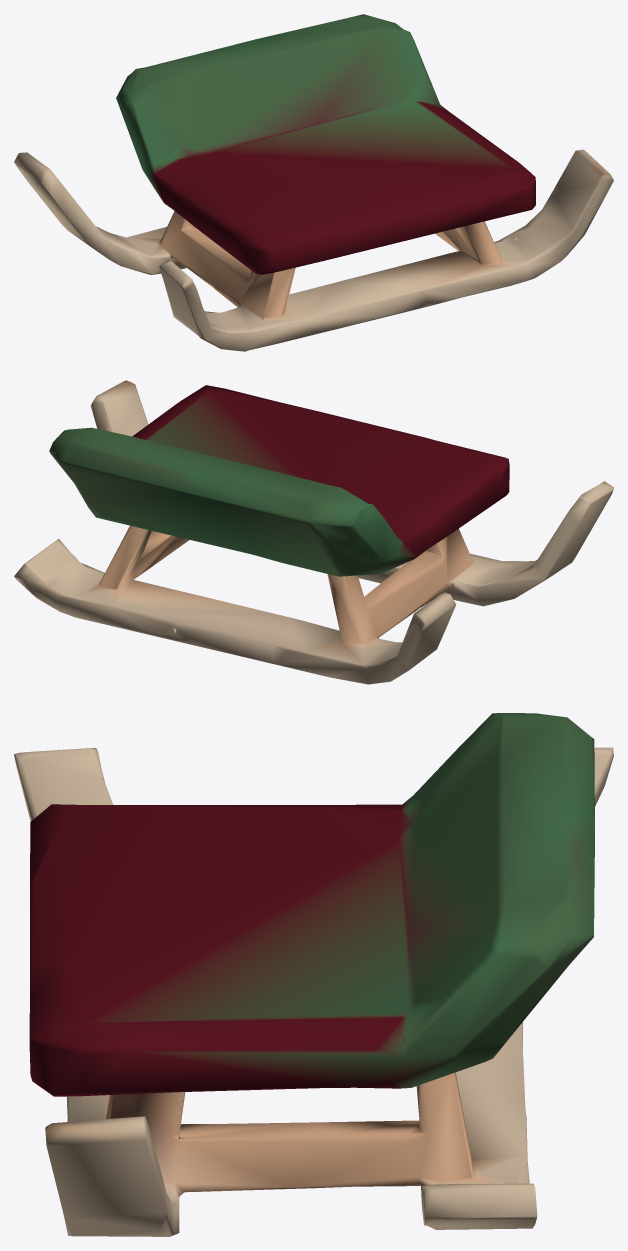
Rendered from gen3d-sleigh-lod1.glb.
3 renders of one model, top to bottom at view 1: azimuth 30°, elevation 25°; view 2: azimuth 150°, elevation 25°; view 3: azimuth 270°, elevation 25°, orthographic. The views are drawn at different scales.
Parts seen in each view (by area): view 1: part_0; view 2: part_0; view 3: part_0.
Boxes of the visible parts, box(x1,y1,x2,y2) form: part_0: box(14, 14, 613, 351); part_0: box(14, 380, 613, 684); part_0: box(14, 713, 613, 1236).
Bounding box in the file's own units: 2.7 × 0.9997 × 1.81.
